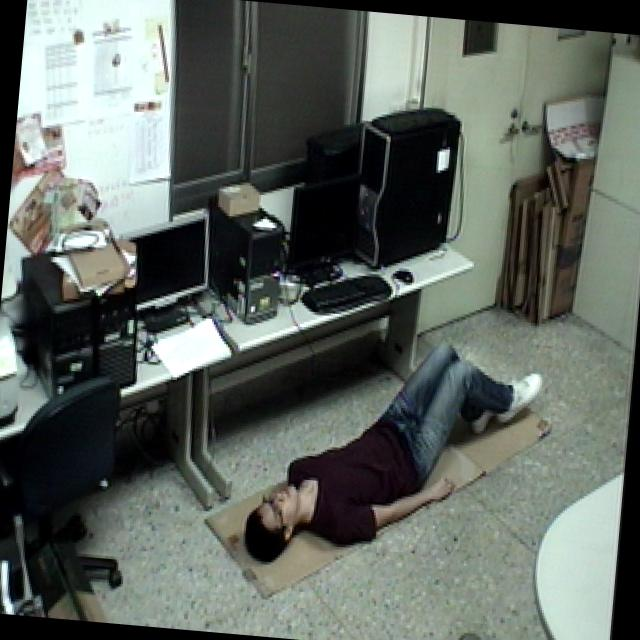lie: (237, 322, 556, 584)
